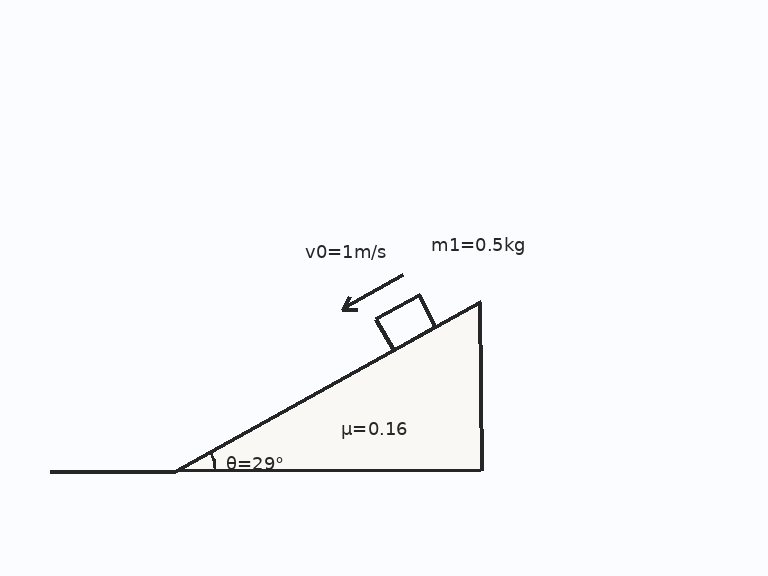block: (374, 293, 437, 352)
ramp: (173, 300, 482, 473)
